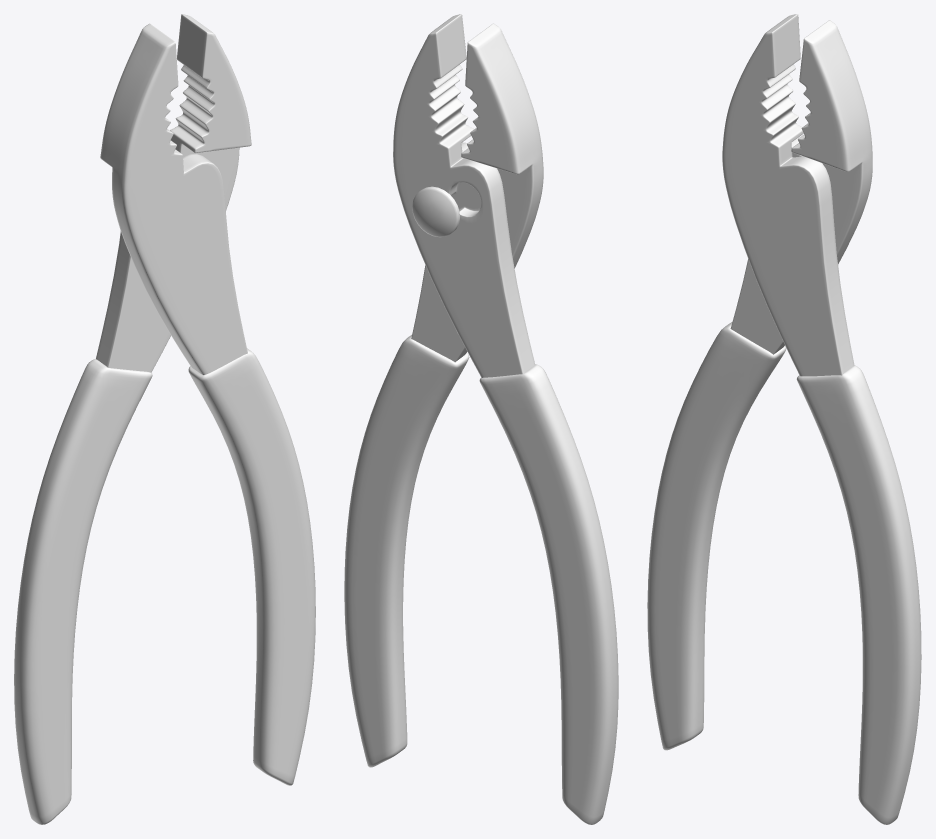
The model's file is pliers.obj.
The picture shows the model from 3 angles, left to right: view 1: azimuth 30°, elevation 25°; view 2: azimuth 150°, elevation 25°; view 3: azimuth 330°, elevation 25°; orthographic projection.
Parts seen in each view (by area): view 1: pliers; view 2: pliers; view 3: pliers.
Part boxes in pixels (left/top/right/bottom): pliers: left=14, top=14, right=315, bottom=824; pliers: left=344, top=14, right=618, bottom=824; pliers: left=647, top=14, right=921, bottom=824.
Bounding box in the file's own units: 5.77 × 15.18 × 1.24.
